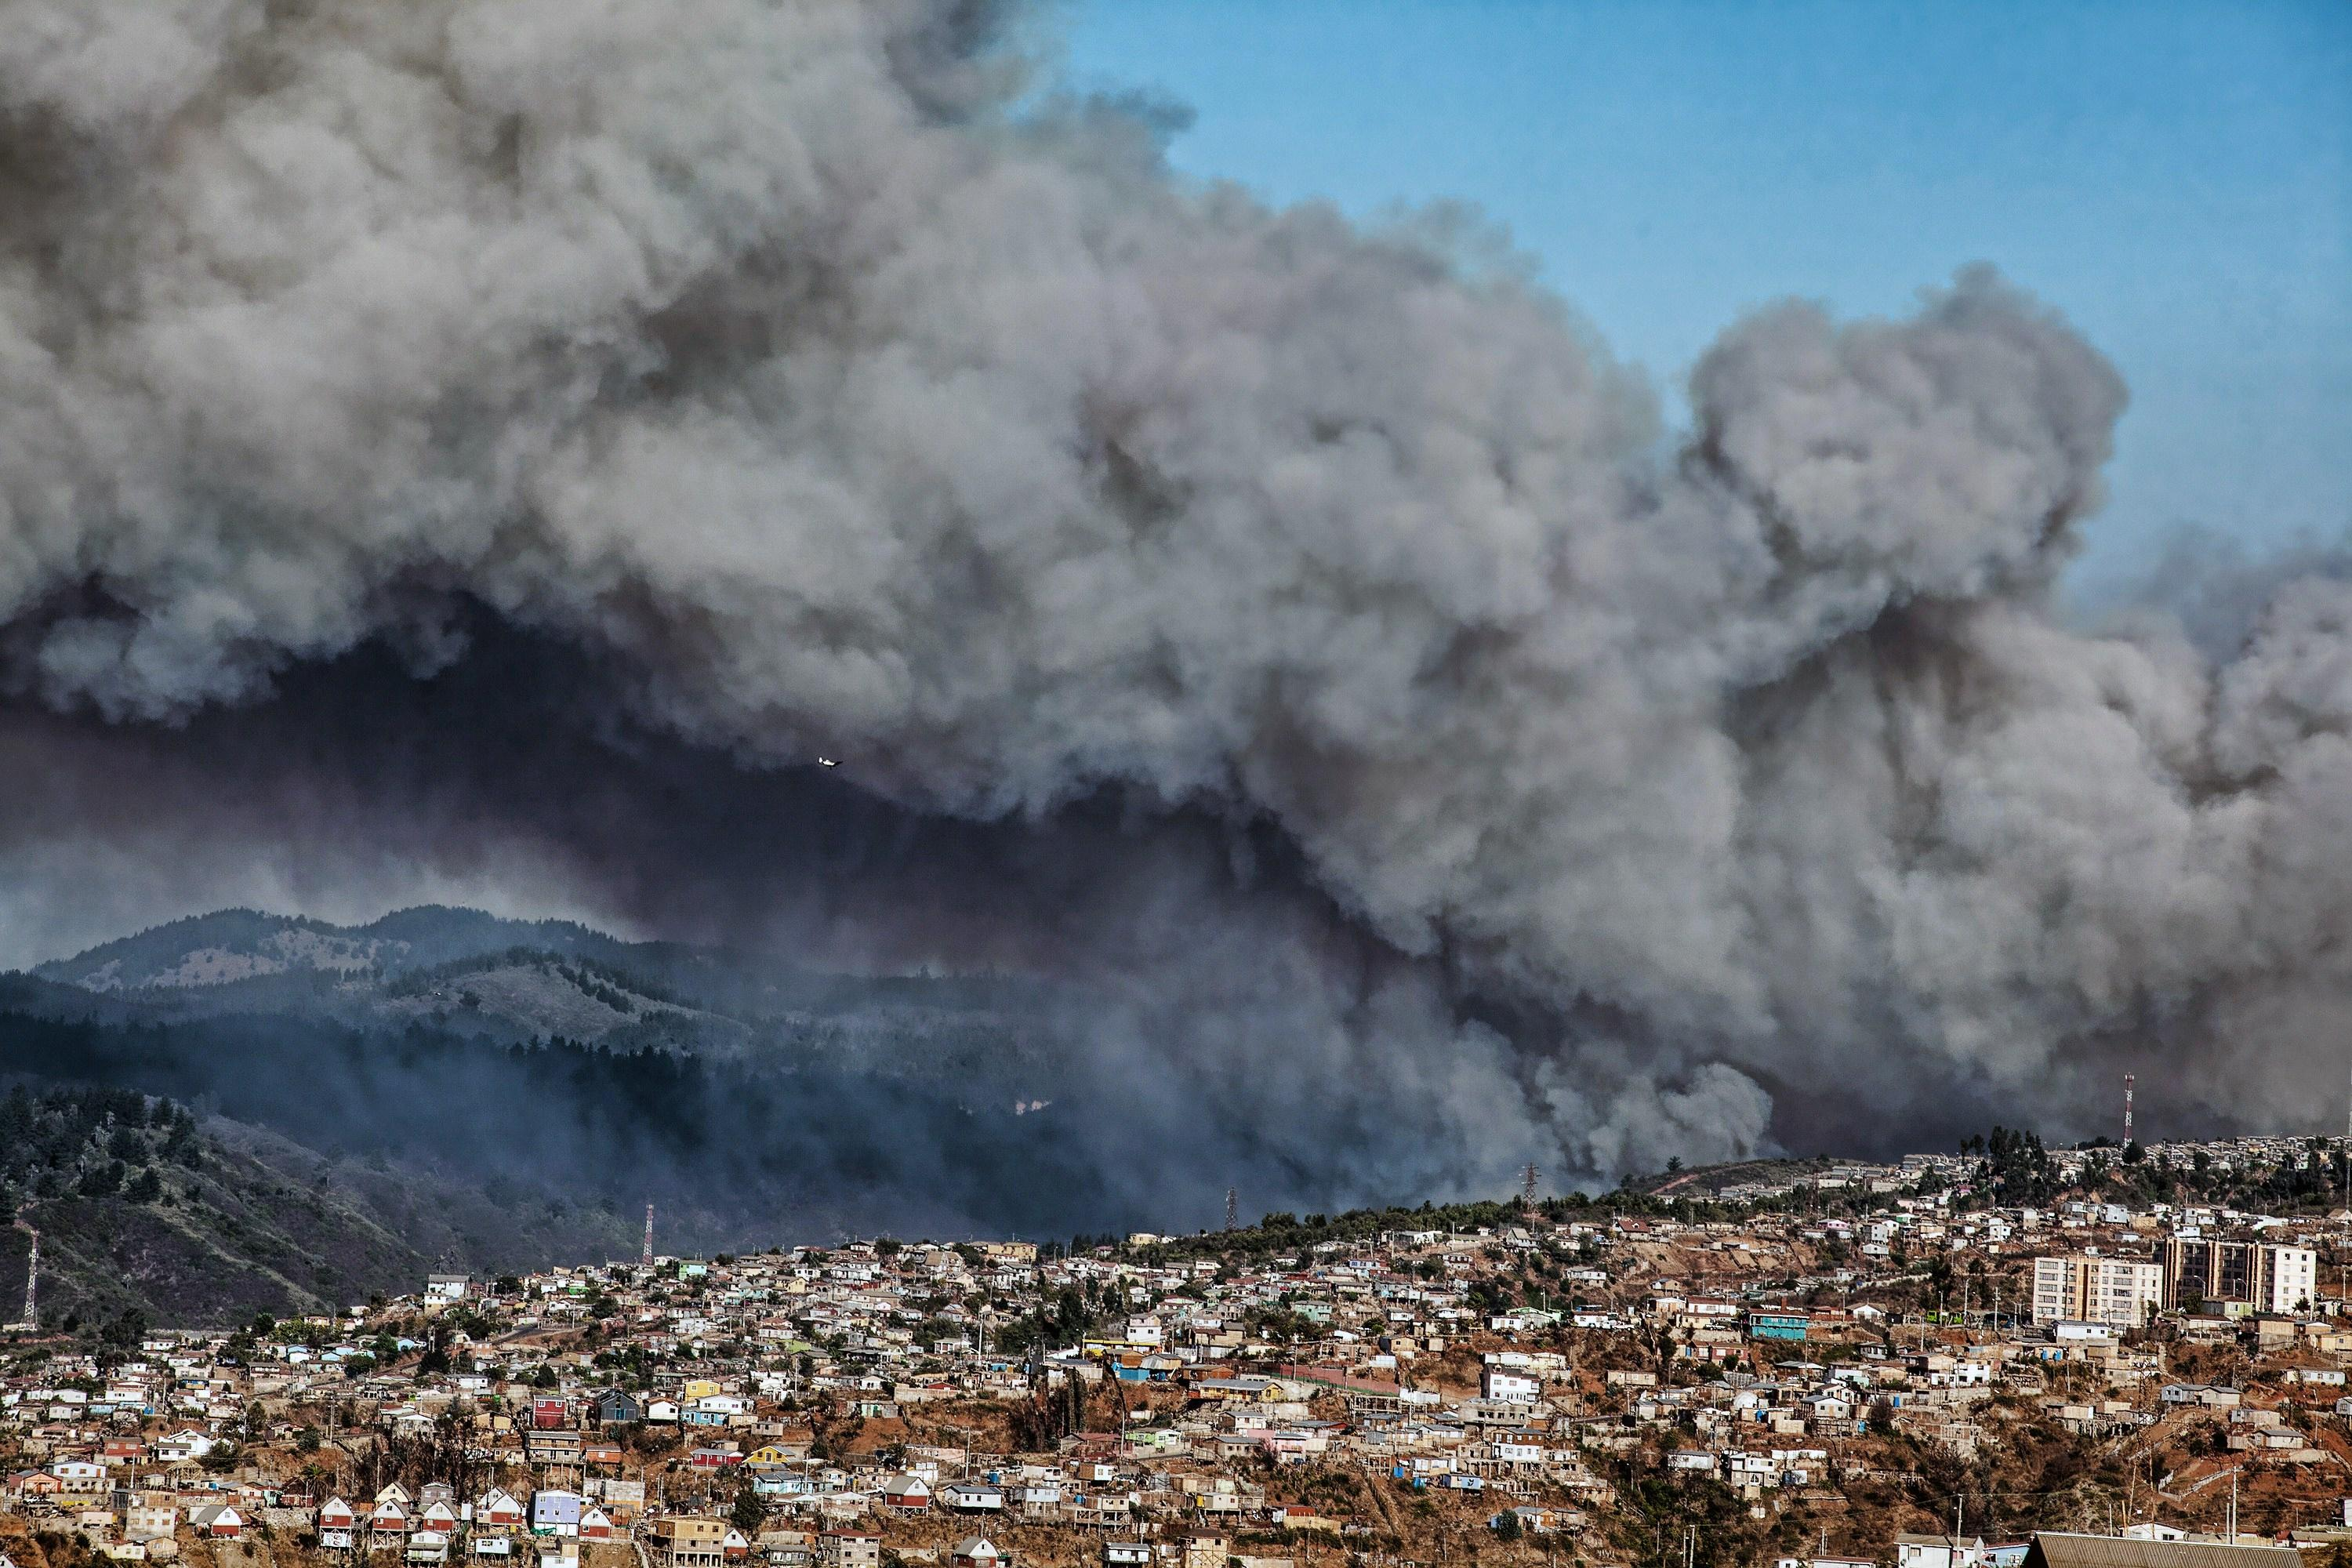smoke: (14, 7, 2348, 1164)
